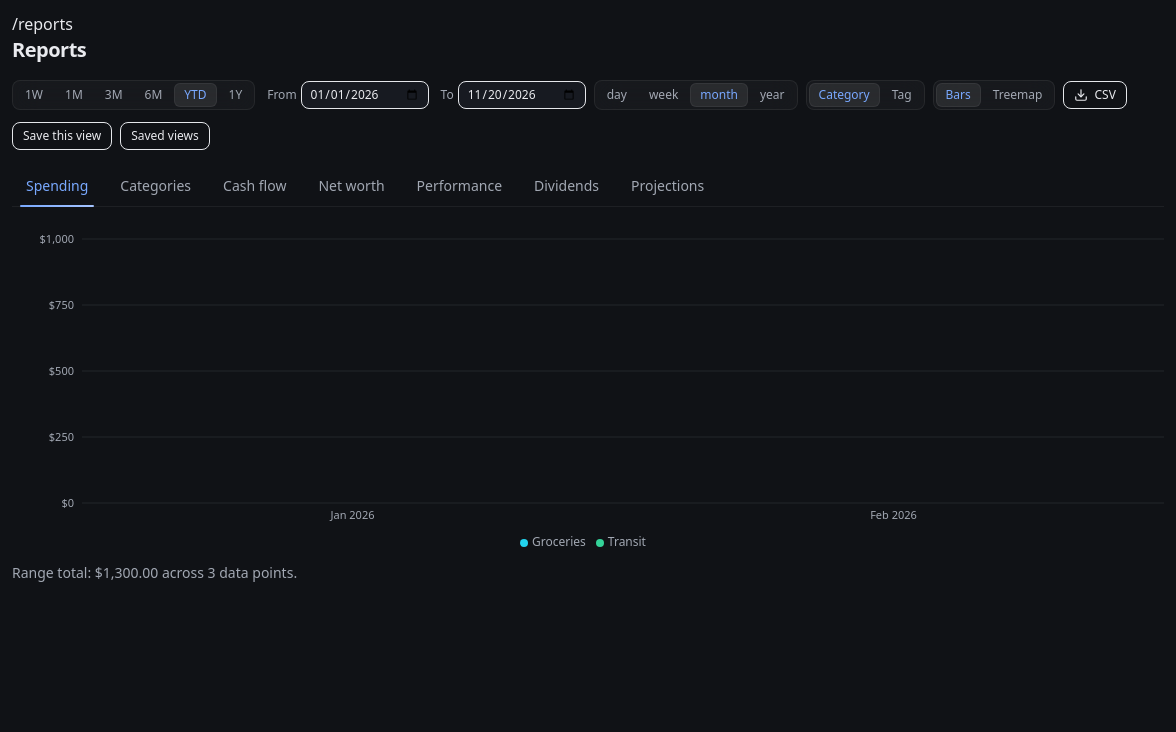
Scenario: M108 P1 — Spending tab chart view (docs/12 §Chart mapping) › offers exactly the categories that spent — none invented, none dropped
The width and height of the screenshot is (1176, 732).
Check: the picture named "Spending by category" is shown, box [12, 231, 1164, 551]
Click the tab "Treemap".
click(1018, 95)  # box [983, 83, 1052, 107]
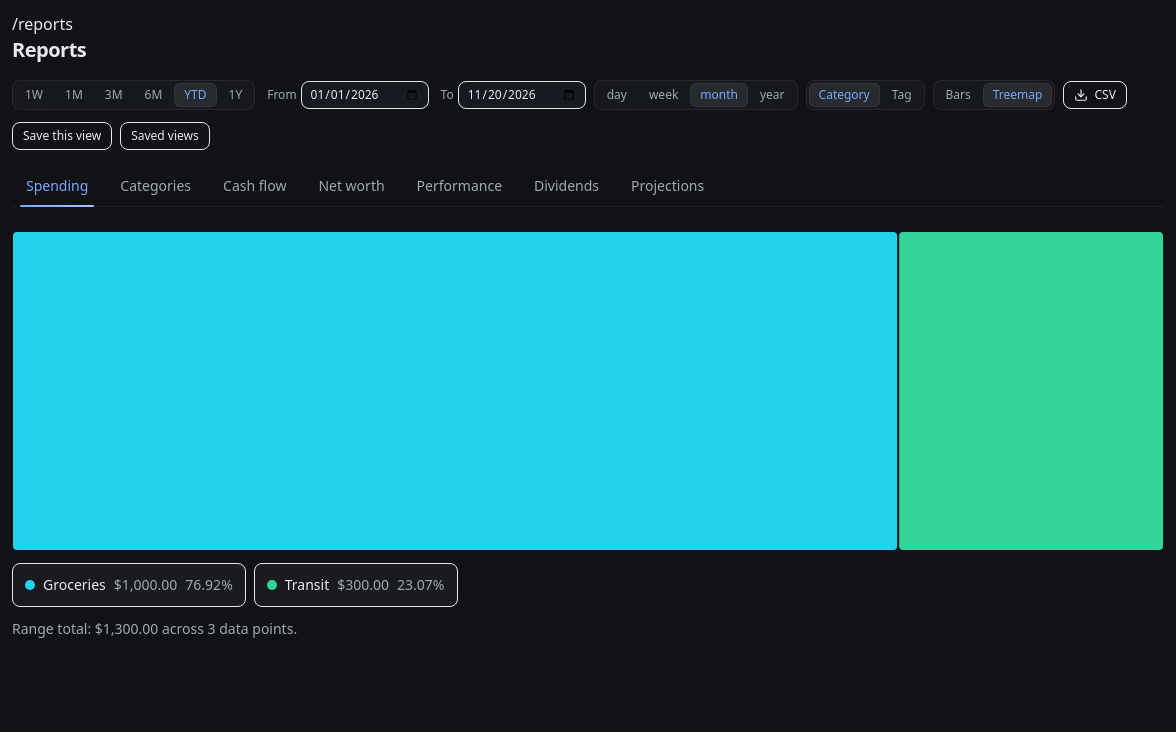
Check: the number of buttons named "Show these transactions." is 2, box [12, 563, 246, 607]; [254, 563, 458, 607]
